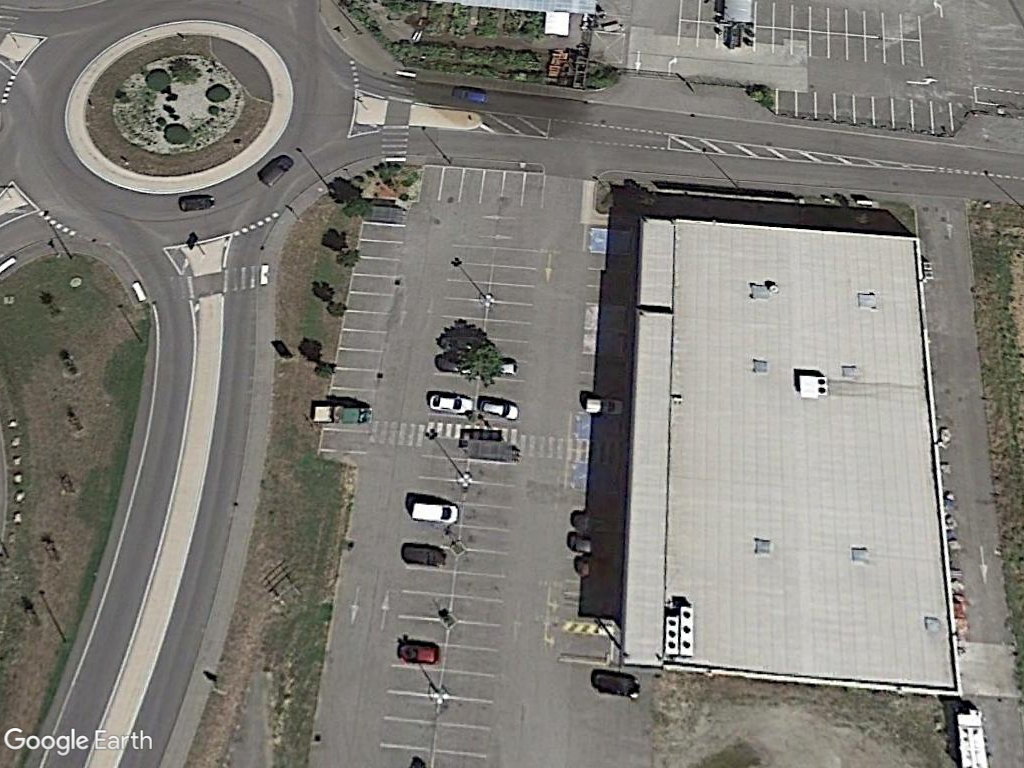car: (425, 388, 476, 416), (396, 637, 442, 665)
van: (406, 497, 463, 527)
